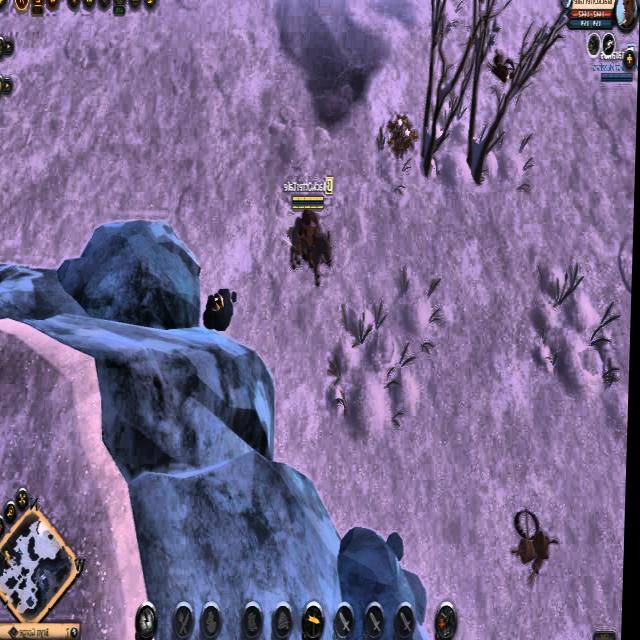copperore: (204, 286, 240, 330)
